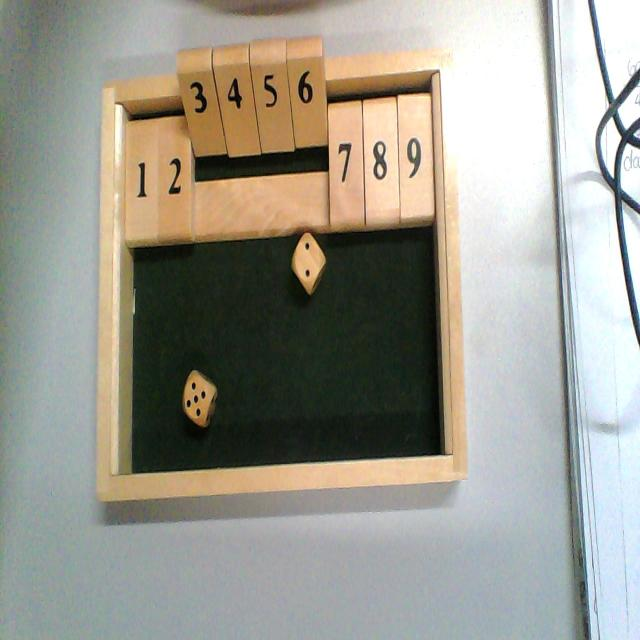2: (290, 234, 330, 296)
5: (177, 366, 217, 436)
C1: (124, 80, 160, 248)
C2: (158, 78, 194, 245)
C7: (327, 55, 365, 230)
C8: (364, 52, 402, 228)
C9: (400, 50, 436, 227)
O3: (177, 51, 227, 243)
O4: (214, 47, 263, 239)
O5: (252, 41, 295, 238)
O6: (287, 38, 329, 228)
